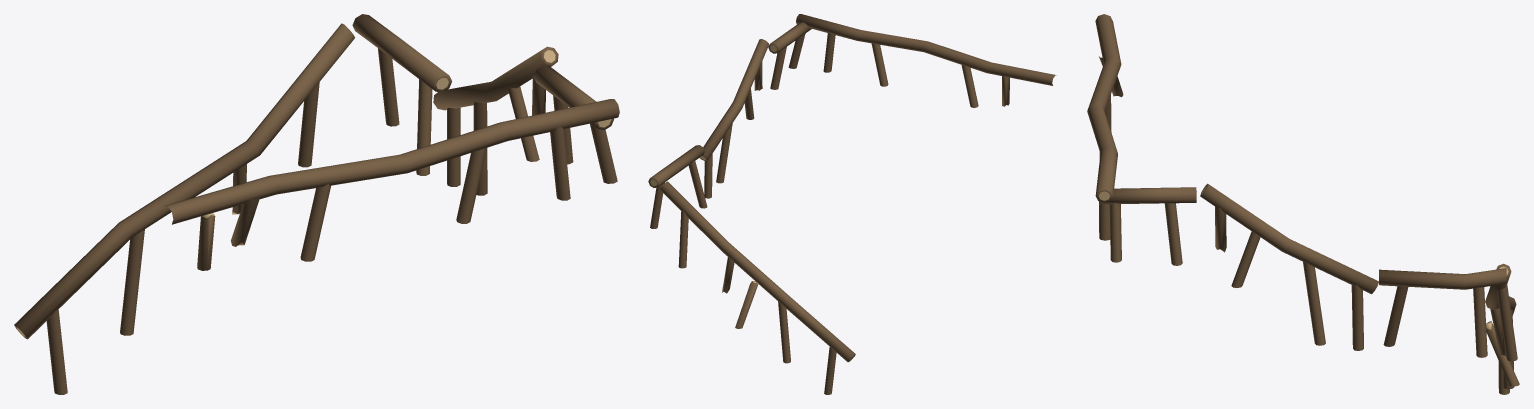
File: rpgpp_av_stairs_interior_01b_3m_handrail_01.gltf
3 views of the same model, side by side, from view 1: azimuth 30°, elevation 25°; view 2: azimuth 150°, elevation 25°; view 3: azimuth 270°, elevation 25° (orthographic). The views are drawn at different scales.
Visible parts, largest first — view 1: rpgpp_av_stairs_interior_01b_3m_handrail_01; view 2: rpgpp_av_stairs_interior_01b_3m_handrail_01; view 3: rpgpp_av_stairs_interior_01b_3m_handrail_01.
Boxes of the visible parts, x1,y1,x2,y2 form: rpgpp_av_stairs_interior_01b_3m_handrail_01: (14,14,619,394); rpgpp_av_stairs_interior_01b_3m_handrail_01: (648,14,1056,394); rpgpp_av_stairs_interior_01b_3m_handrail_01: (1087,14,1519,394).
Size of the model in its own units: 0.0438 by 0.0365 by 0.0441.
Materials: 1 (1 with a texture image).
